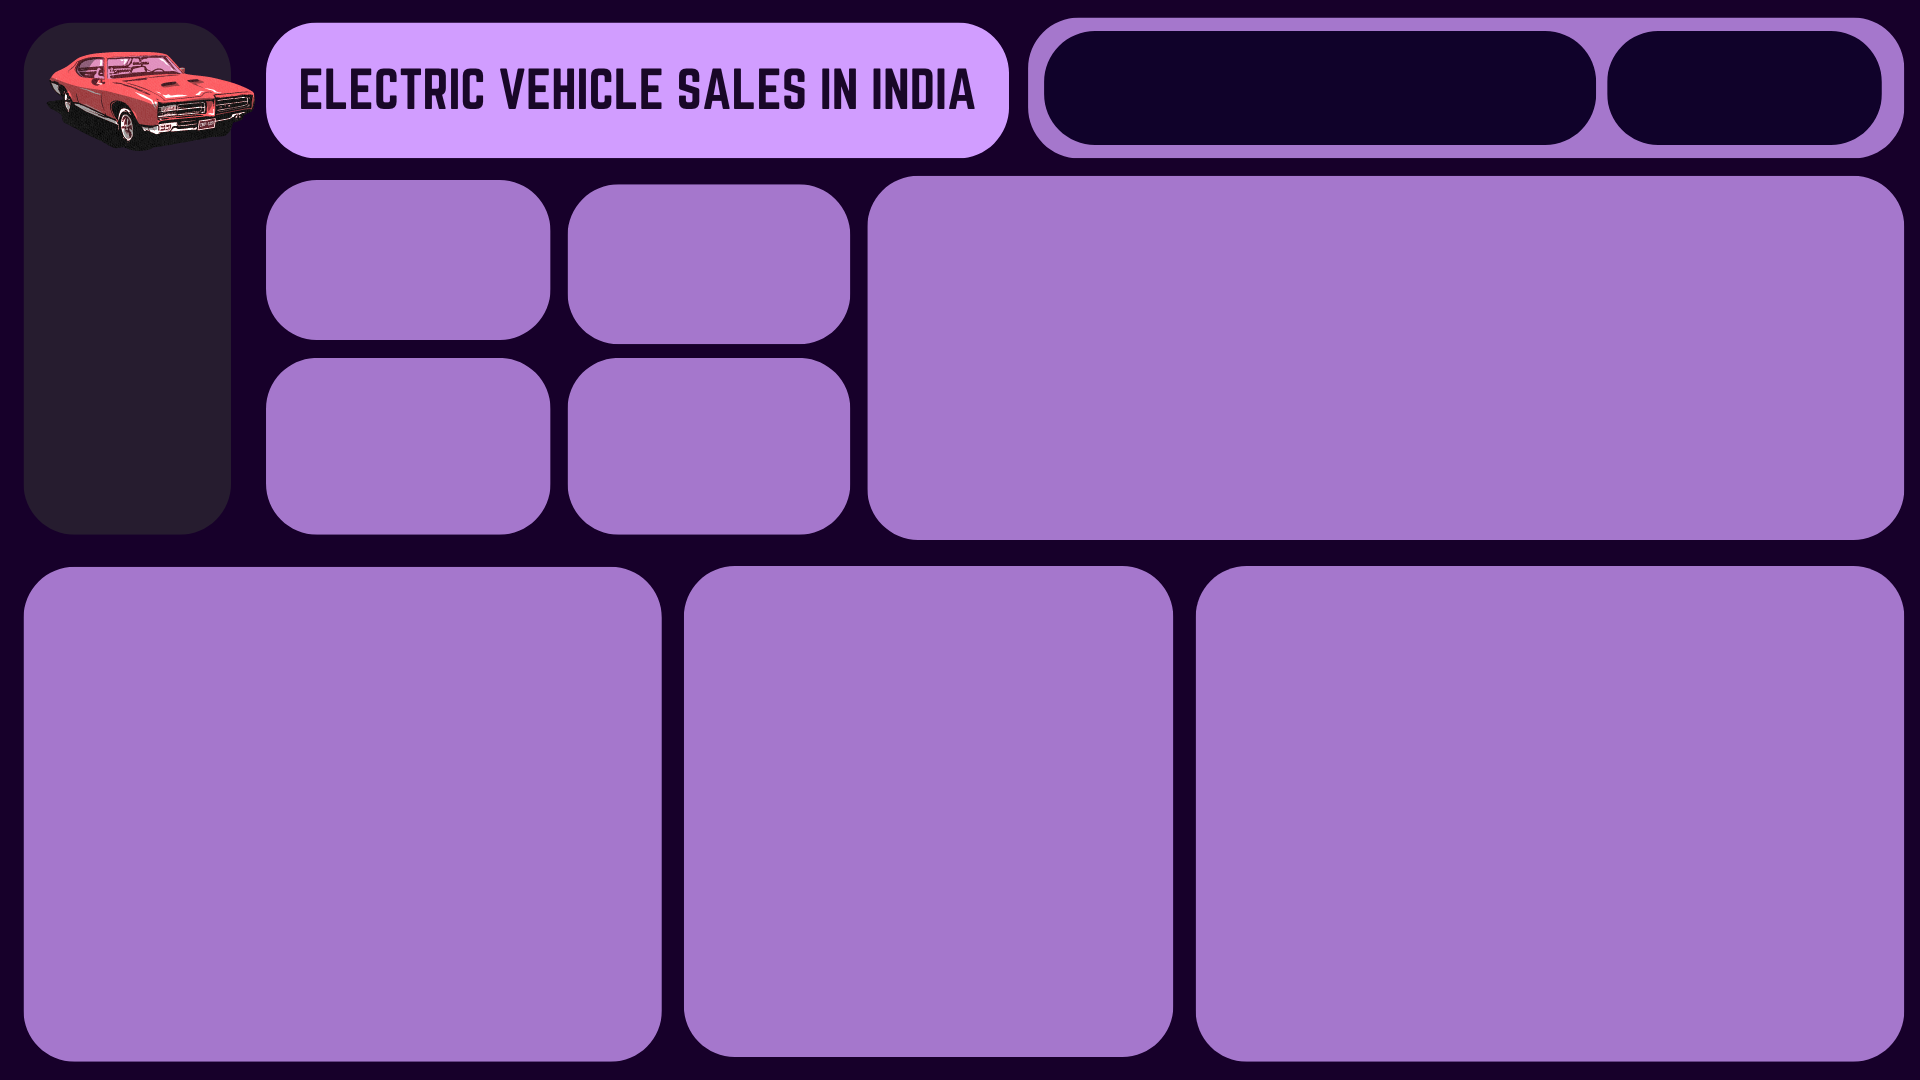

The dashboard page shown, as its layout file describes it:
{"tool":"powerbi","page":{"name":"Overview","canvas":[1280,720],"ordinal":0},"visuals":[{"type":"card","fields":{"Values":["Calculation Table.Total EV Sold"]},"box":[401.5,115.3,210.7,110.3],"z":0},{"type":"card","fields":{"Values":["Calculation Table.Total Vehicle Sold"]},"box":[223.1,128.9,162.3,80.6],"z":1000},{"type":"clusteredColumnChart","title":"Top 5 EV Producers","fields":{"Category":["electric_vehicle_sales_by_makers.MAKER"],"Y":["Sum(electric_vehicle_sales_by_makers.ELECTRIC VEHICLE SOLD)"]},"box":[27.3,406.5,416.4,288.8],"z":2000},{"type":"card","fields":{"Values":["Calculation Table.Number of Makers"]},"box":[368.8,225.4,210.7,127.3],"z":3000},{"type":"pieChart","title":"EV Sale","fields":{"Category":["electric_vehicle_sales_by_makers.VEHICLE CATEGORY"],"Y":["Sum(electric_vehicle_sales_by_makers.ELECTRIC VEHICLE SOLD)"]},"box":[447.4,406.5,312.3,271.4],"z":4000},{"type":"slicer","fields":{"Values":["Calendar Table.Date.Variation.Date Hierarchy.Year"]},"box":[687.8,33.7,379,48.3],"z":5000},{"type":"slicer","fields":{"Values":["Calendar Table.Date.Variation.Date Hierarchy.Quarter"]},"box":[1080.1,23.4,165.4,65.9],"z":6000},{"type":"image","box":[176,128.9,92.9,80.6],"z":7000},{"type":"image","box":[382.9,130.1,88,80.6],"z":8000},{"type":"image","box":[176,244.1,92.9,90.5],"z":9000},{"type":"clusteredColumnChart","fields":{"Y":["Calculation Table.Total EV Sold"],"Category":["electric_vehicle_sales_by_state.STATE"]},"box":[785.7,406.5,494.5,280.1],"z":10000},{"type":"lineChart","title":"Same Period Last Year","fields":{"Y":["Calculation Table.Same Period Last Year","Calculation Table.Total EV Sold"],"Category":["Calendar Table.Date.Variation.Date Hierarchy.Year","Calendar Table.Date.Variation.Date Hierarchy.Month"]},"box":[603.5,132.6,655.6,220.6],"z":11000},{"type":"pageNavigator","box":[19.8,138.8,130.1,178.5],"z":12000},{"type":"card","fields":{"Values":["Calculation Table.EV stations"]},"box":[213.2,210.7,183.4,158.6],"z":13000}]}

Visuals, with their boxes in screenshot pixels (x1, y1, x2, y2), scaled from the page's 1280x720 canvas onto the 1920x1080 screenshot:
card - Calculation Table.Total EV Sold: [x1=602, y1=173, x2=918, y2=338]
card - Calculation Table.Total Vehicle Sold: [x1=335, y1=193, x2=578, y2=314]
"Top 5 EV Producers" clusteredColumnChart: [x1=41, y1=610, x2=666, y2=1043]
card - Calculation Table.Number of Makers: [x1=553, y1=338, x2=869, y2=529]
"EV Sale" pieChart: [x1=671, y1=610, x2=1140, y2=1017]
slicer - Calendar Table.Date.Variation.Date Hierarchy.Year: [x1=1032, y1=51, x2=1600, y2=123]
slicer - Calendar Table.Date.Variation.Date Hierarchy.Quarter: [x1=1620, y1=35, x2=1868, y2=134]
image: [x1=264, y1=193, x2=403, y2=314]
image: [x1=574, y1=195, x2=706, y2=316]
image: [x1=264, y1=366, x2=403, y2=502]
clusteredColumnChart - Calculation Table.Total EV Sold x electric_vehicle_sales_by_state.STATE: [x1=1179, y1=610, x2=1919, y2=1030]
"Same Period Last Year" lineChart: [x1=905, y1=199, x2=1889, y2=530]
pageNavigator: [x1=30, y1=208, x2=225, y2=476]
card - Calculation Table.EV stations: [x1=320, y1=316, x2=595, y2=554]
